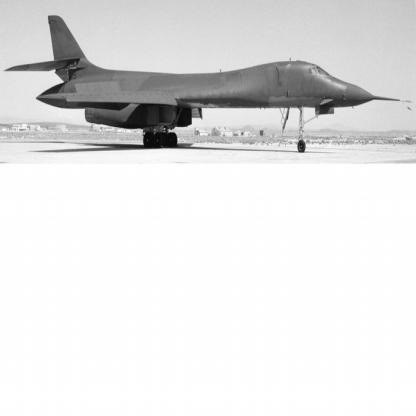B1: (4, 16, 414, 153)
